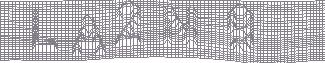2: (113, 1, 144, 48)
9: (226, 3, 255, 54)
A: (71, 15, 107, 56)
L: (29, 8, 58, 52)
N: (162, 3, 200, 50)
